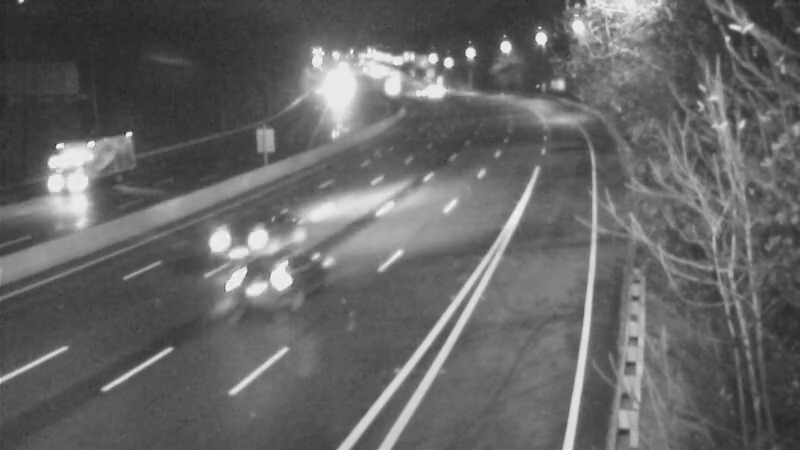vehicle: (198, 218, 278, 298), (234, 241, 314, 321), (26, 140, 106, 220), (406, 63, 456, 113), (389, 67, 439, 117)
